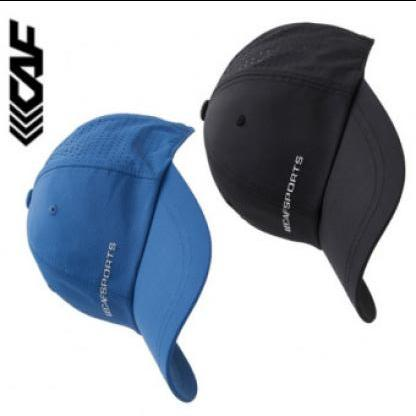cap: (196, 13, 408, 336)
